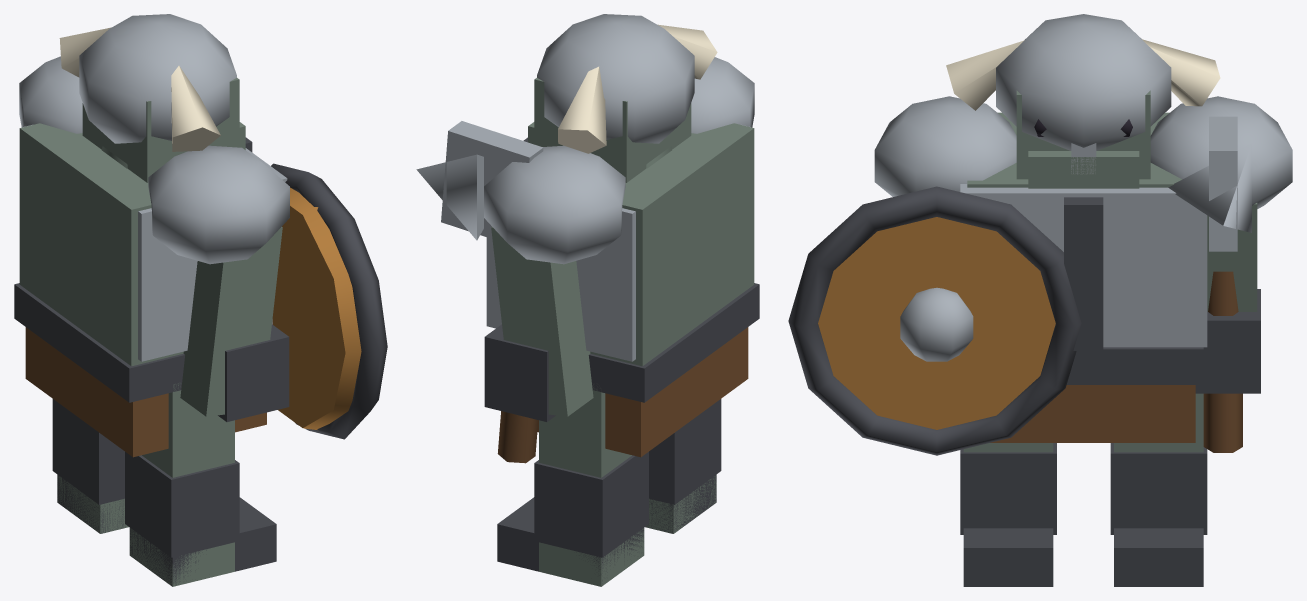
Rendered from enemy_armored.glb.
3 views of the same model, side by side, from view 1: azimuth 30°, elevation 25°; view 2: azimuth 150°, elevation 25°; view 3: azimuth 270°, elevation 25° (orthographic). The views are drawn at different scales.
Parts seen in each view (by area): view 1: torso, shield, helmet, pauldron_l, arm_l_mesh, greave_l, skirt, shield_rim, leg_l_mesh, chestplate, belt, greave_r (+8 smaller); view 2: torso, helmet, pauldron_r, arm_r_mesh, greave_r, skirt, leg_r_mesh, chestplate, belt, greave_l, bracer_r, pauldron_l (+9 smaller); view 3: shield, shield_rim, chestplate, helmet, pauldron_l, skirt, pauldron_r, greave_r, greave_l, foot_l, foot_r, plate_ridge (+14 smaller).
Part boxes in pixels (x1,y1,x2,y2): torso: (19,123,183,366); shield: (272,187,361,429); helmet: (79,14,236,143); pauldron_l: (148,145,289,264); arm_l_mesh: (180,227,282,416); greave_l: (125,452,239,557); skirt: (25,327,266,457); shield_rim: (271,163,387,439); leg_l_mesh: (129,383,234,586); chestplate: (23,124,287,361); belt: (14,283,184,402); greave_r: (52,399,124,504); torso: (590,123,754,366); helmet: (537,14,694,143); pauldron_r: (484,145,625,264); arm_r_mesh: (491,227,593,416); greave_r: (534,452,648,557); skirt: (537,327,748,457); leg_r_mesh: (539,384,644,586); chestplate: (486,124,750,361); belt: (588,283,759,402); greave_l: (649,399,721,504); bracer_r: (484,324,555,421); pauldron_l: (691,57,754,133); shield: (818,217,1055,429); shield_rim: (788,186,1081,455); chestplate: (960,184,1207,347); helmet: (996,14,1171,150); pauldron_l: (874,96,1016,196); skirt: (990,385,1195,442); pauldron_r: (1150,96,1292,208); greave_r: (1110,443,1207,534); greave_l: (960,443,1056,534); foot_l: (963,528,1053,586); foot_r: (1114,528,1203,586); plate_ridge: (1064,197,1103,350).
Size of the model in its own units: 0.147 by 0.3282 by 0.2817.
